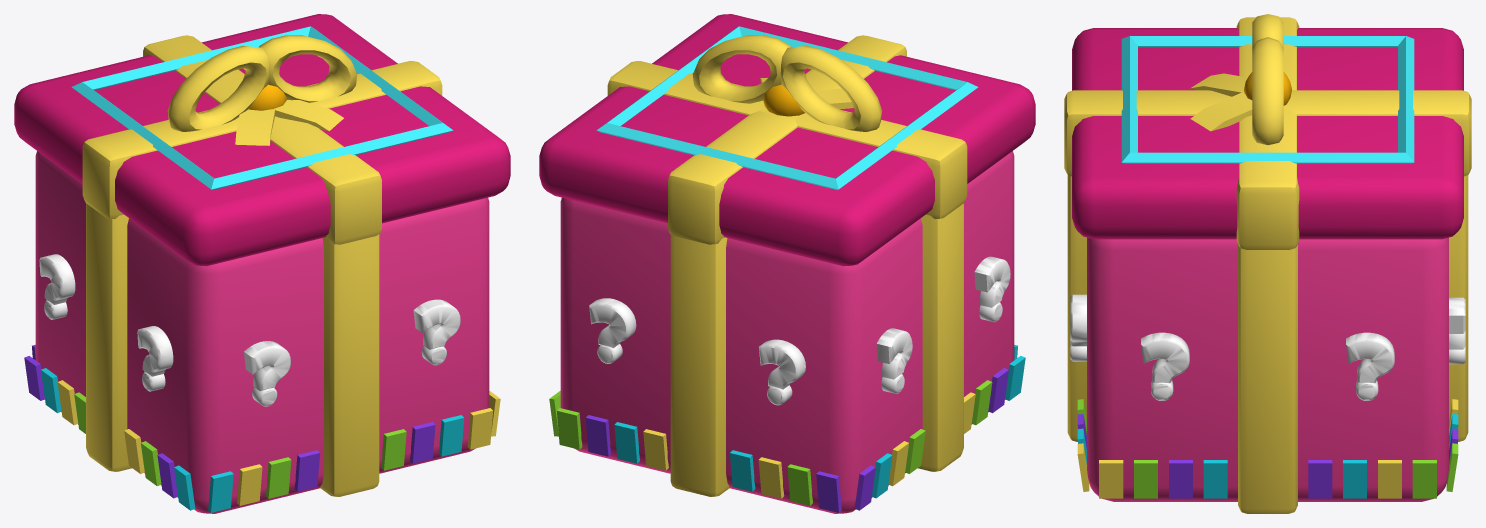
File: caja_sorpresa.obj
The picture shows the model from 3 angles, left to right: view 1: azimuth 30°, elevation 25°; view 2: azimuth 150°, elevation 25°; view 3: azimuth 270°, elevation 25°; orthographic projection. The views are drawn at different scales.
Visible parts, largest first — view 1: caja_sorpresa, caja_sorpresa_Neon; view 2: caja_sorpresa, caja_sorpresa_Neon; view 3: caja_sorpresa, caja_sorpresa_Neon.
Part boxes in pixels (x1,y1,x2,y2): caja_sorpresa: (14, 14, 510, 513); caja_sorpresa_Neon: (71, 26, 453, 190); caja_sorpresa: (539, 14, 1035, 513); caja_sorpresa_Neon: (596, 26, 978, 190); caja_sorpresa: (1064, 14, 1471, 513); caja_sorpresa_Neon: (1121, 36, 1414, 163).
Size of the model in its own units: 3.38 by 3.67 by 3.38.
2 materials, 2 textured.
